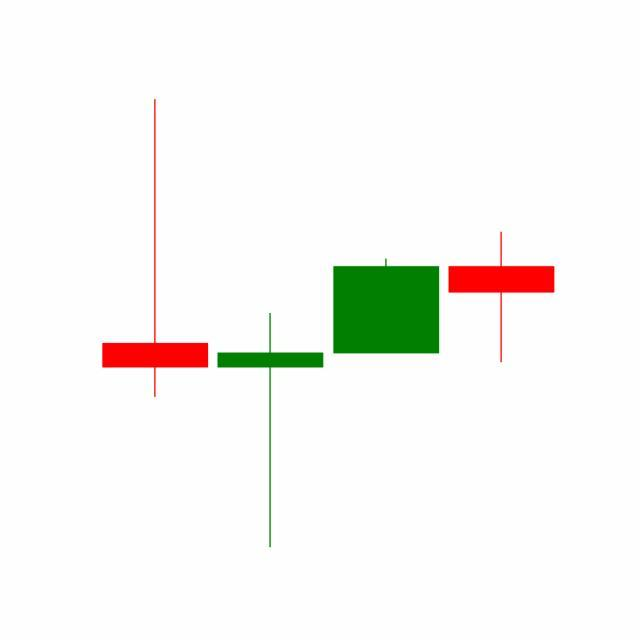Spinning Top: (444, 230, 560, 365)
